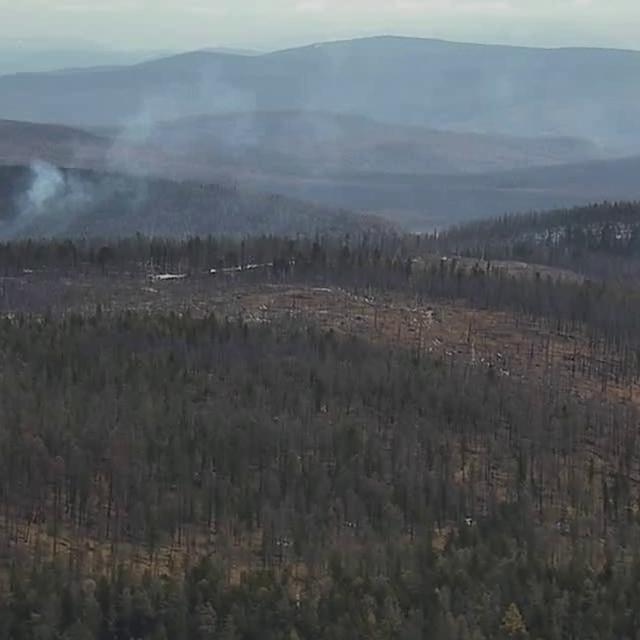Smoke: (1, 95, 273, 263)
